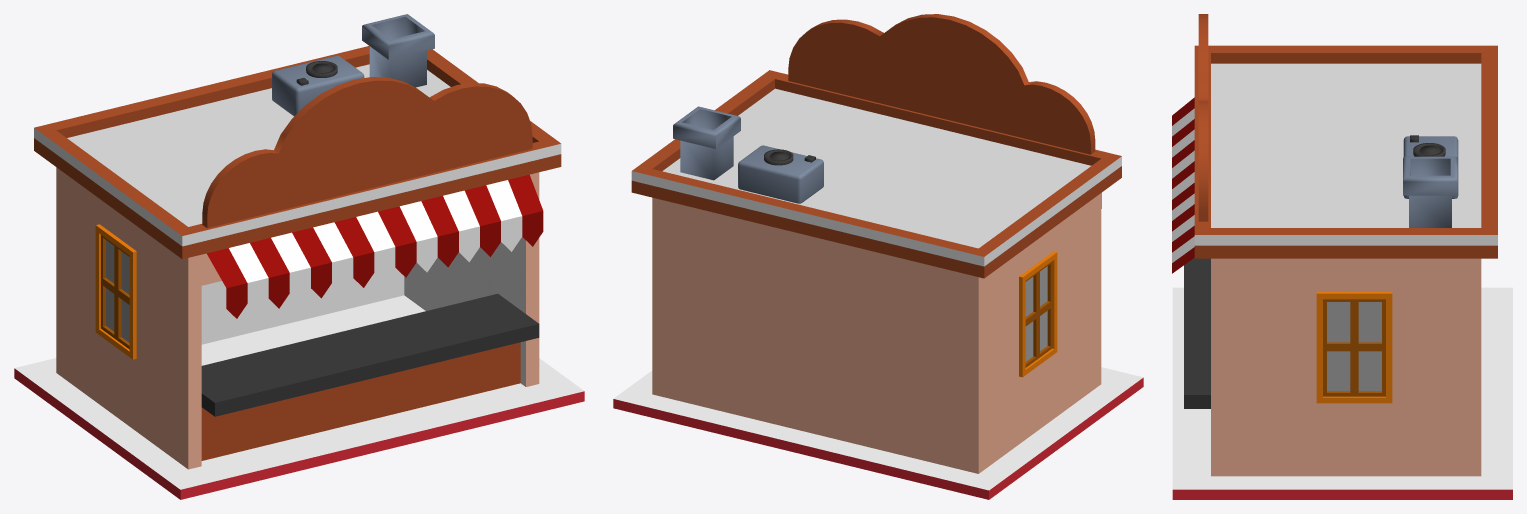
The model's file is Resturant_1.fbx.
3 renders of one model, left to right at view 1: azimuth 30°, elevation 25°; view 2: azimuth 150°, elevation 25°; view 3: azimuth 270°, elevation 25°, orthographic. The views are drawn at different scales.
Visible parts, largest first — view 1: Resturant_1; view 2: Resturant_1; view 3: Resturant_1.
Part boxes in pixels (x1,y1,x2,y2): Resturant_1: (14, 14, 584, 499); Resturant_1: (613, 14, 1143, 499); Resturant_1: (1172, 14, 1512, 499).
Bounding box in the file's own units: 20.5 × 14.63 × 17.49.
